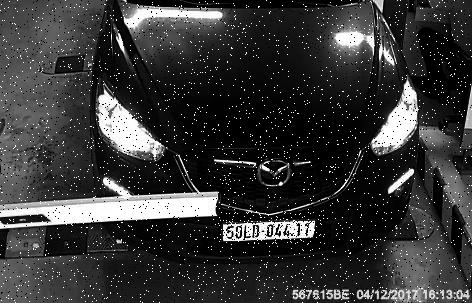License-plate: (221, 212, 329, 245)
